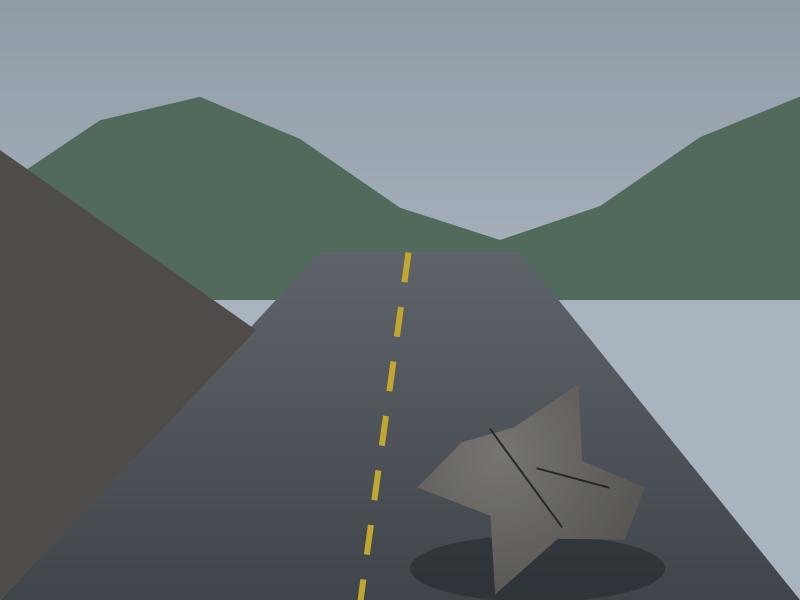ROAD_OBSTACLE: (420, 391, 655, 584)
